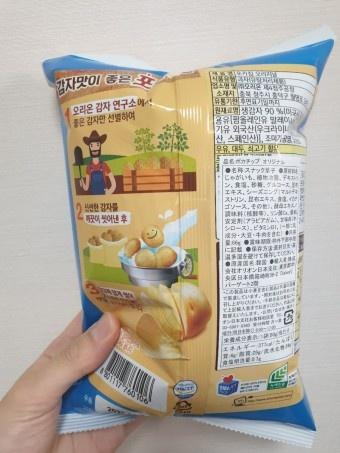snack: (42, 37, 334, 451)
